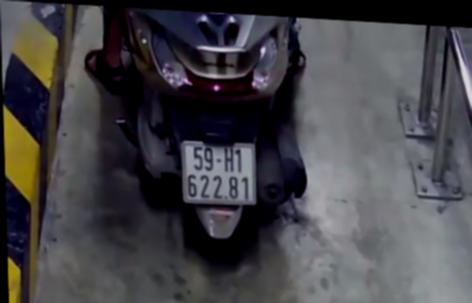License_Plate: (176, 136, 265, 213)
